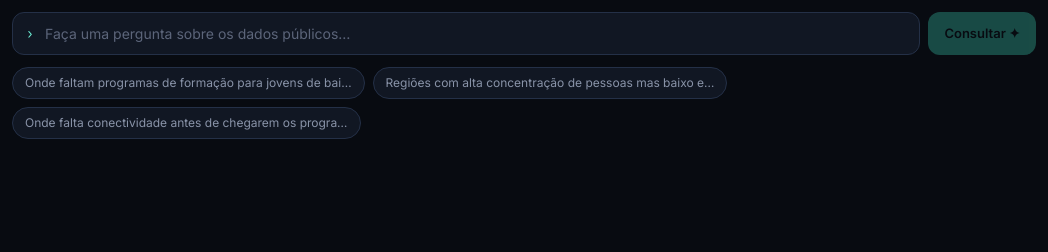
Scenario: AIQueryBar › envia a pergunta ao agente e mostra a resposta com as fontes
Type "quais as regiões com menor cobertura?" into the field with placeholder "Faça uma pergunta sobre os dados públicos…". click: x=466, y=34
box: 12,12 -> 920,55
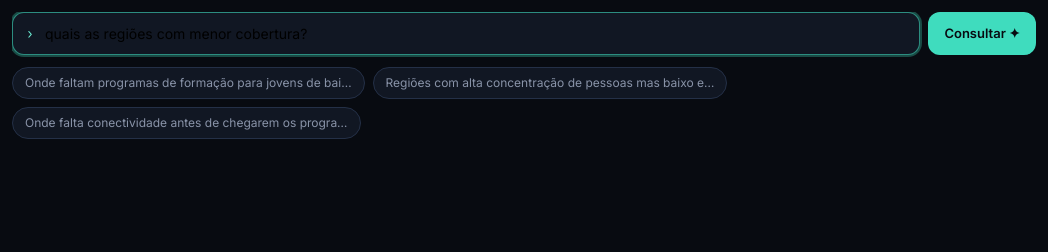
Click the button "Consultar ✦". click: x=982, y=34
box: 928,12 -> 1036,55
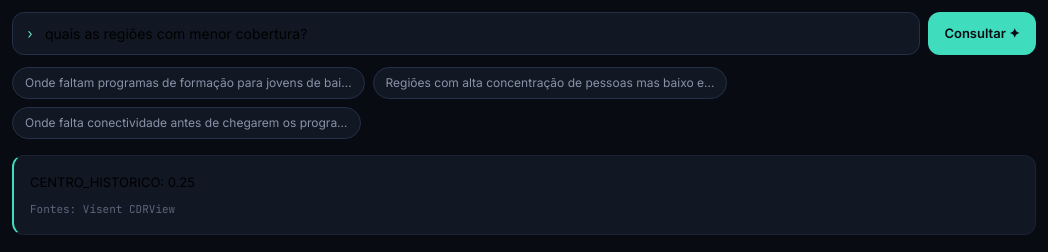
Expected: the text "CENTRO_HISTORICO: 0.25" is shown, 30,174 -> 195,190
Now the text "Fontes: Vísent CDRView" is shown, box 30,202 -> 175,216
